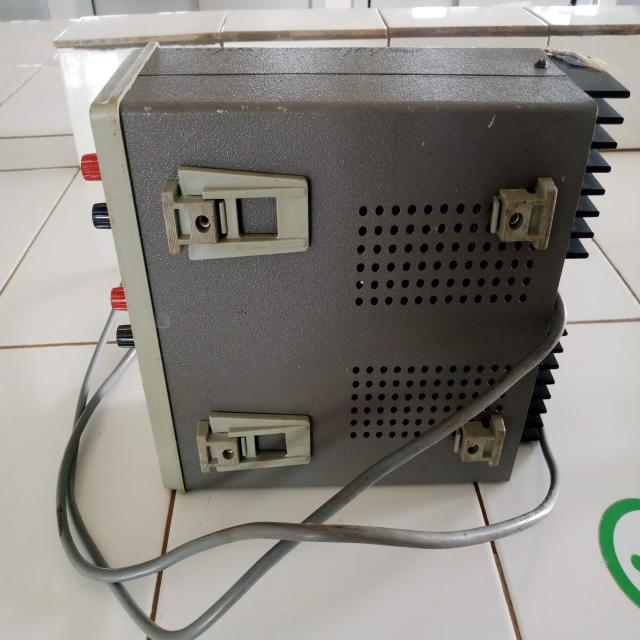Digital Power Supply: (83, 42, 630, 485)
